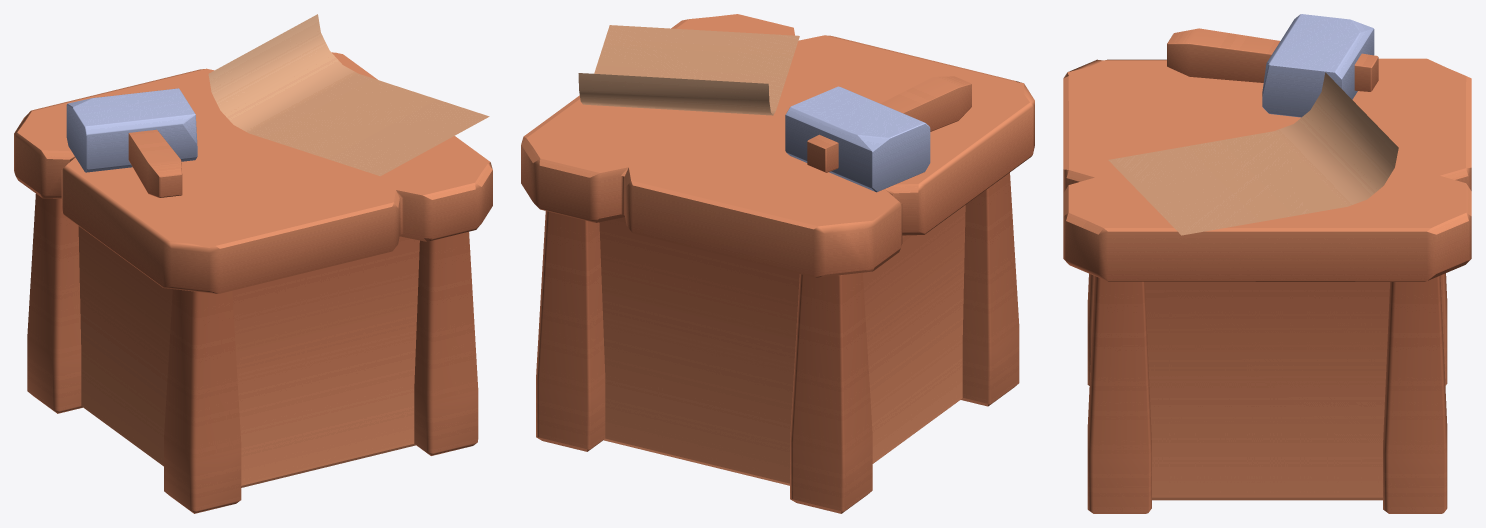
Rendered from kenney-survival__workbench.glb.
The picture shows the model from 3 angles, left to right: view 1: azimuth 30°, elevation 25°; view 2: azimuth 150°, elevation 25°; view 3: azimuth 270°, elevation 25°; orthographic projection. The views are drawn at different scales.
Parts seen in each view (by area): view 1: workbench, paper, hammer; view 2: workbench, paper, hammer; view 3: workbench, paper, hammer.
Part boxes in pixels (<box>): workbench: <box>14,52,492,513</box>; paper: <box>208,14,489,176</box>; hammer: <box>66,88,197,197</box>; workbench: <box>521,14,1034,513</box>; paper: <box>578,25,799,115</box>; hammer: <box>785,76,971,192</box>; workbench: <box>1063,58,1471,513</box>; paper: <box>1108,72,1398,235</box>; hammer: <box>1167,14,1378,117</box>.
Size of the model in its own units: 0.3257 by 0.2866 by 0.2957.
1 material, 1 textured.
